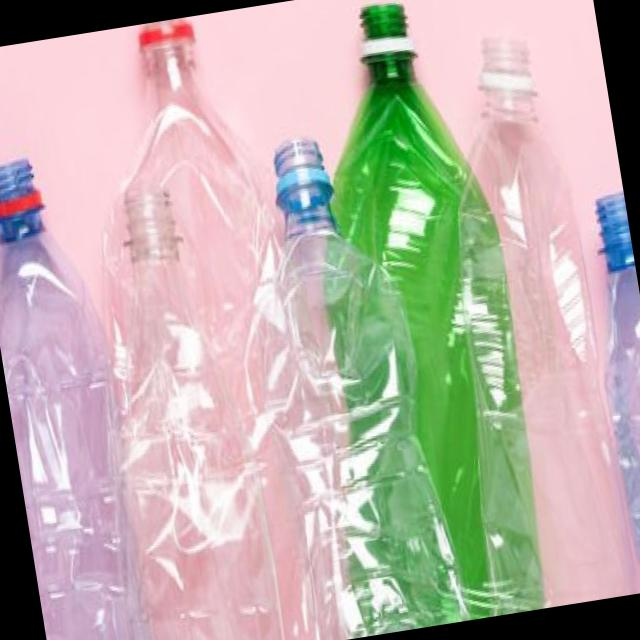general: (444, 21, 640, 610), (573, 188, 640, 594)
